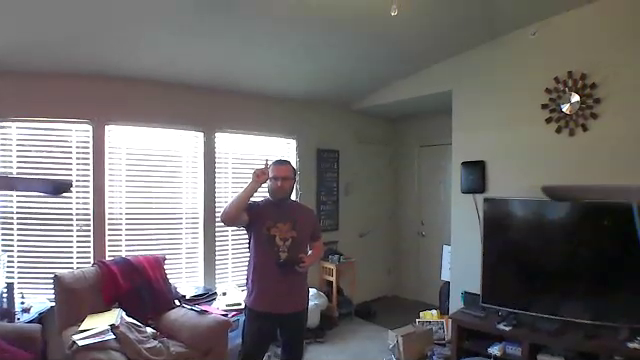up: (250, 158, 275, 187)
